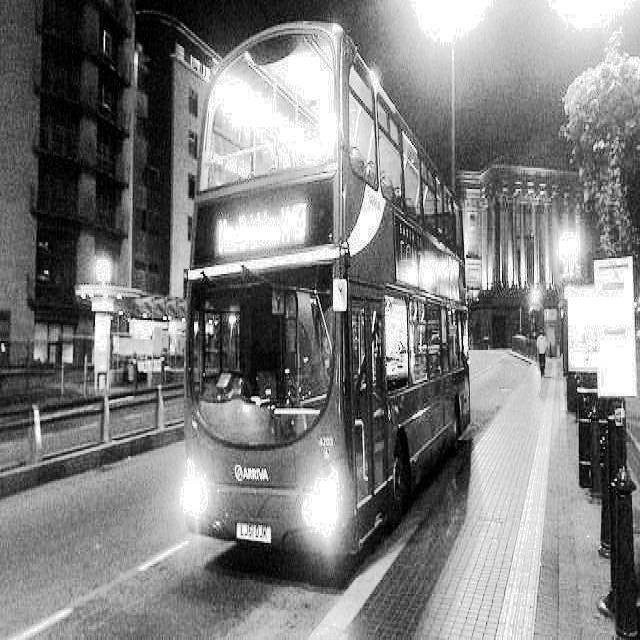Bus: (178, 20, 484, 578)
